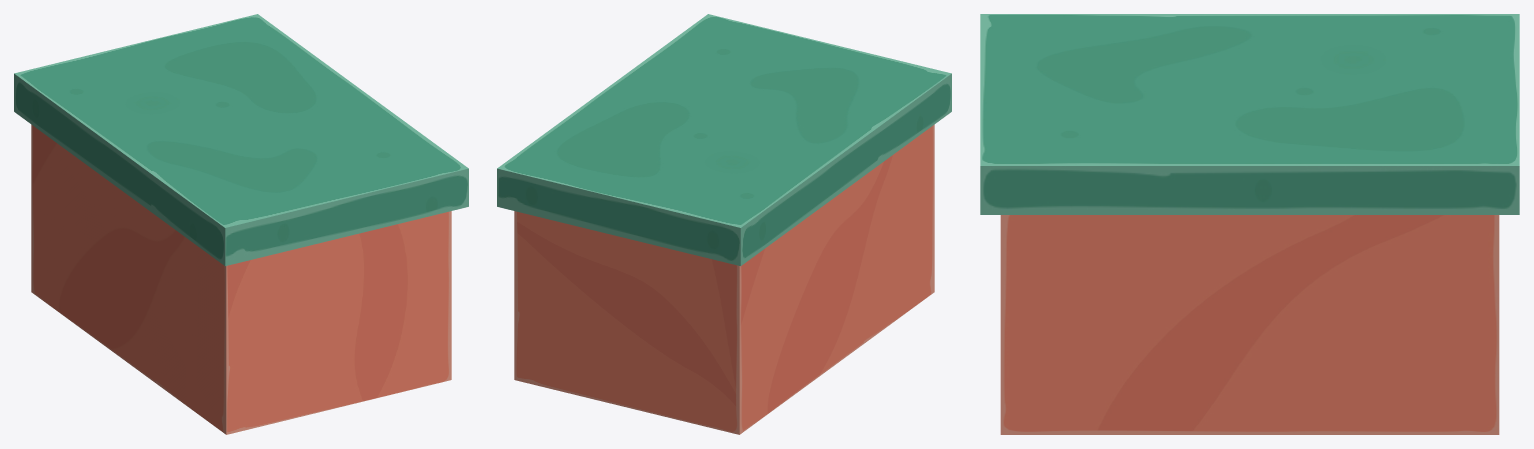
Rendered from table.gltf.
3 renders of one model, left to right at view 1: azimuth 30°, elevation 25°; view 2: azimuth 150°, elevation 25°; view 3: azimuth 270°, elevation 25°, orthographic. The views are drawn at different scales.
Visible parts, largest first — view 1: Cube.001, Cube; view 2: Cube.001, Cube; view 3: Cube.001, Cube.
Boxes of the visible parts, box(x1,y1,x2,y2) form: Cube.001: box(31, 124, 451, 434); Cube: box(14, 14, 468, 266); Cube.001: box(514, 124, 934, 434); Cube: box(497, 14, 951, 266); Cube.001: box(1000, 215, 1499, 434); Cube: box(980, 14, 1519, 214).
Bounding box in the file's own units: 4.33 × 3.65 × 6.49.
2 materials, 2 textured.
